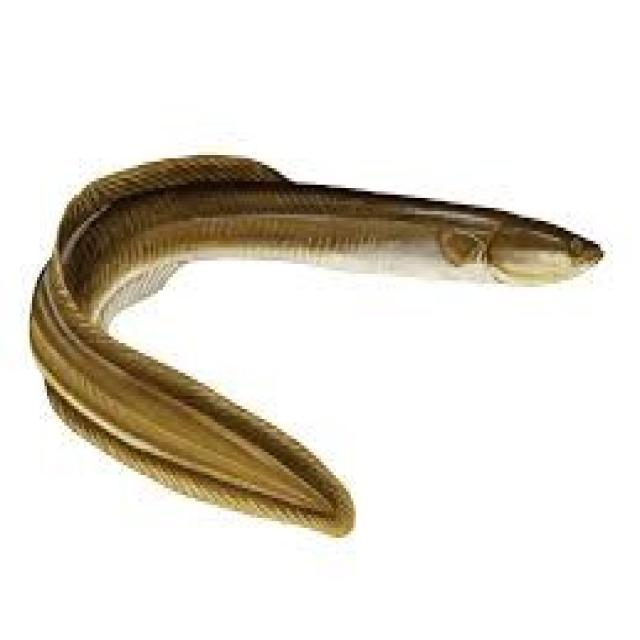Freshwater-Eel: (18, 113, 636, 571)
